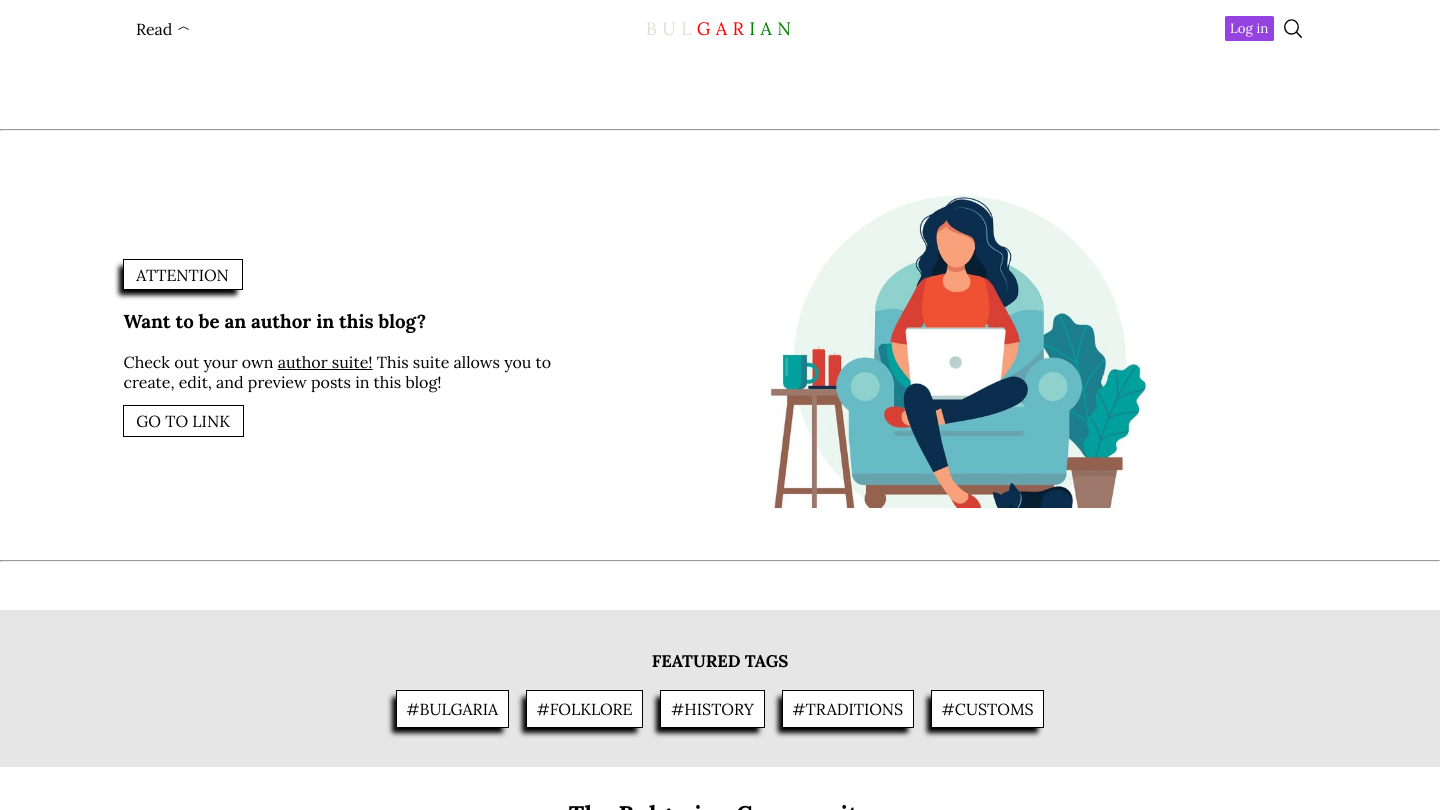
Test: Should render NavComponent › should navigate to LogInFormComponent first and then to SignUpFormComponent
Click the button at (1249, 28), box [1225,16,1274,41]
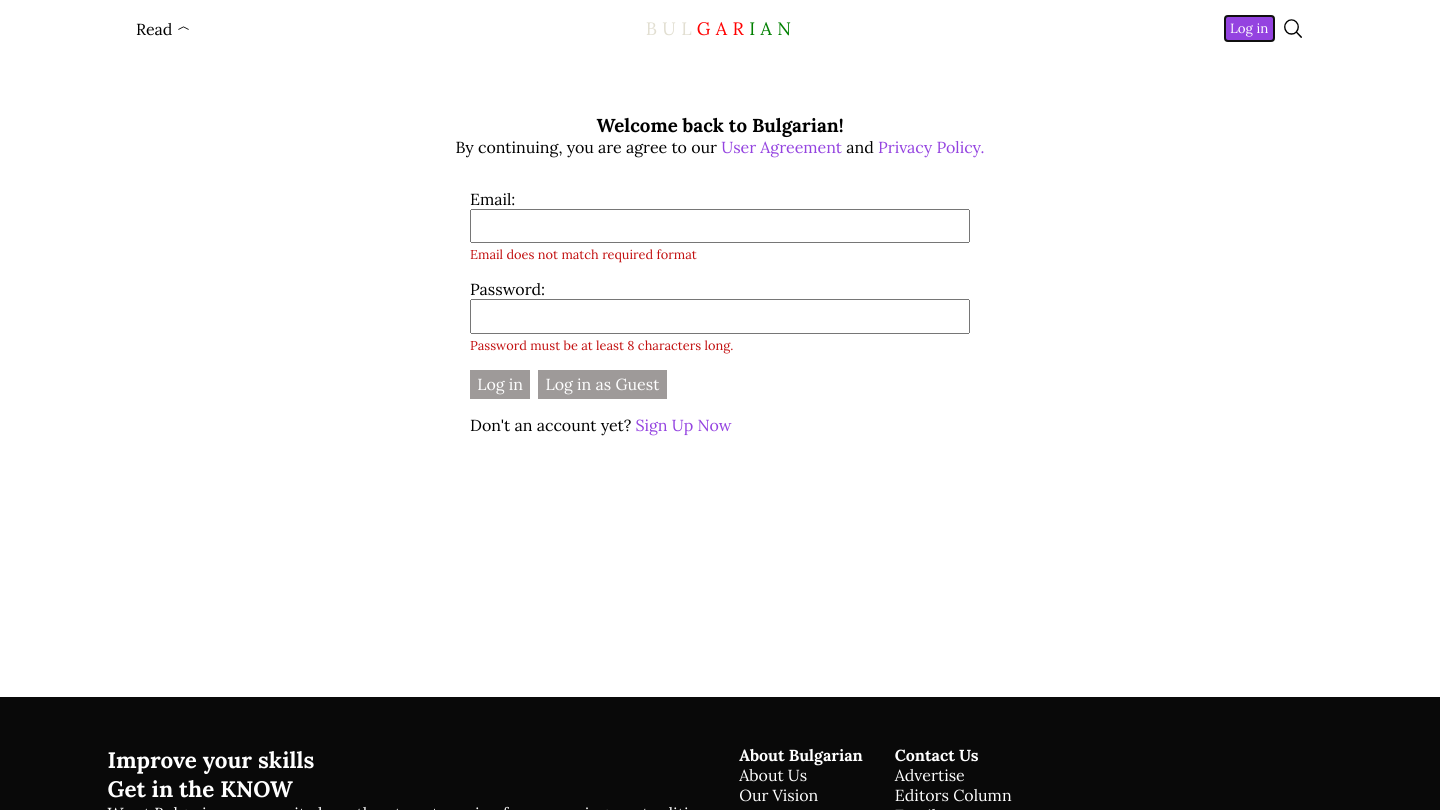
Check: the heading "Welcome back to Bulgarian!" is shown, box [596,113,843,137]
Check: the element with test id "logInFormPrivacy" reads "By continuing, you are agree to our User Agreement and Privacy Policy.", box [456,137,984,157]
Check: the text "Email:" is shown, box [470,189,515,209]
Click the link "Sign Up Now" at (684, 425), box [636,415,732,435]
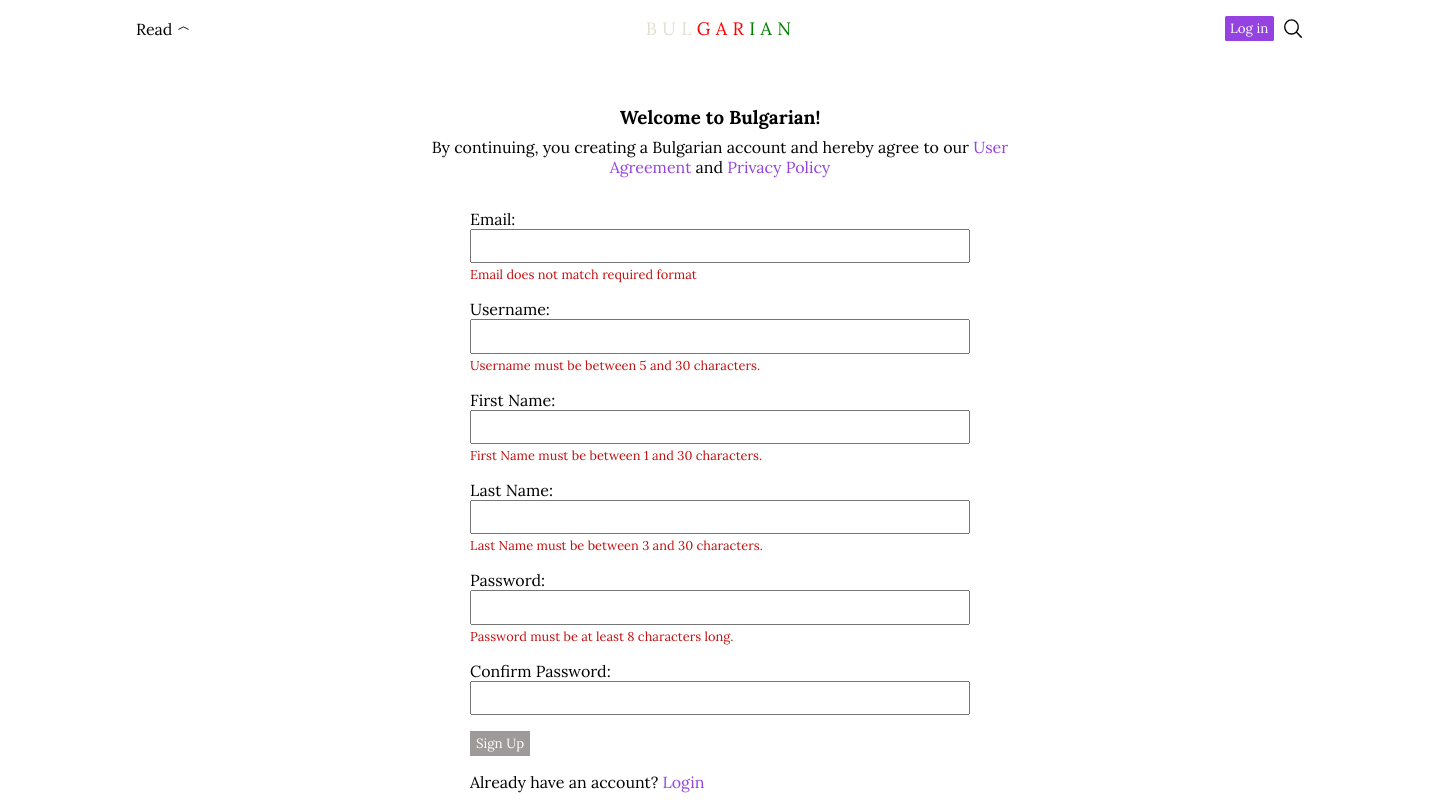
Check: the link "User Agreement" is shown, box [610,137,1008,177]
Check: the heading "Welcome to Bulgarian!" is shown, box [620,105,820,129]
Check: the element with test id "signUpFormPrivacy" shows "By continuing, you creating a Bulgarian account and hereby agree to our User Agreement and Privacy Policy", box [400,137,1040,177]
